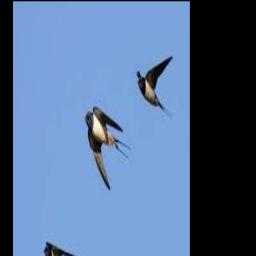Swallow: (85, 106, 132, 189), (137, 56, 173, 119), (44, 241, 79, 256)
